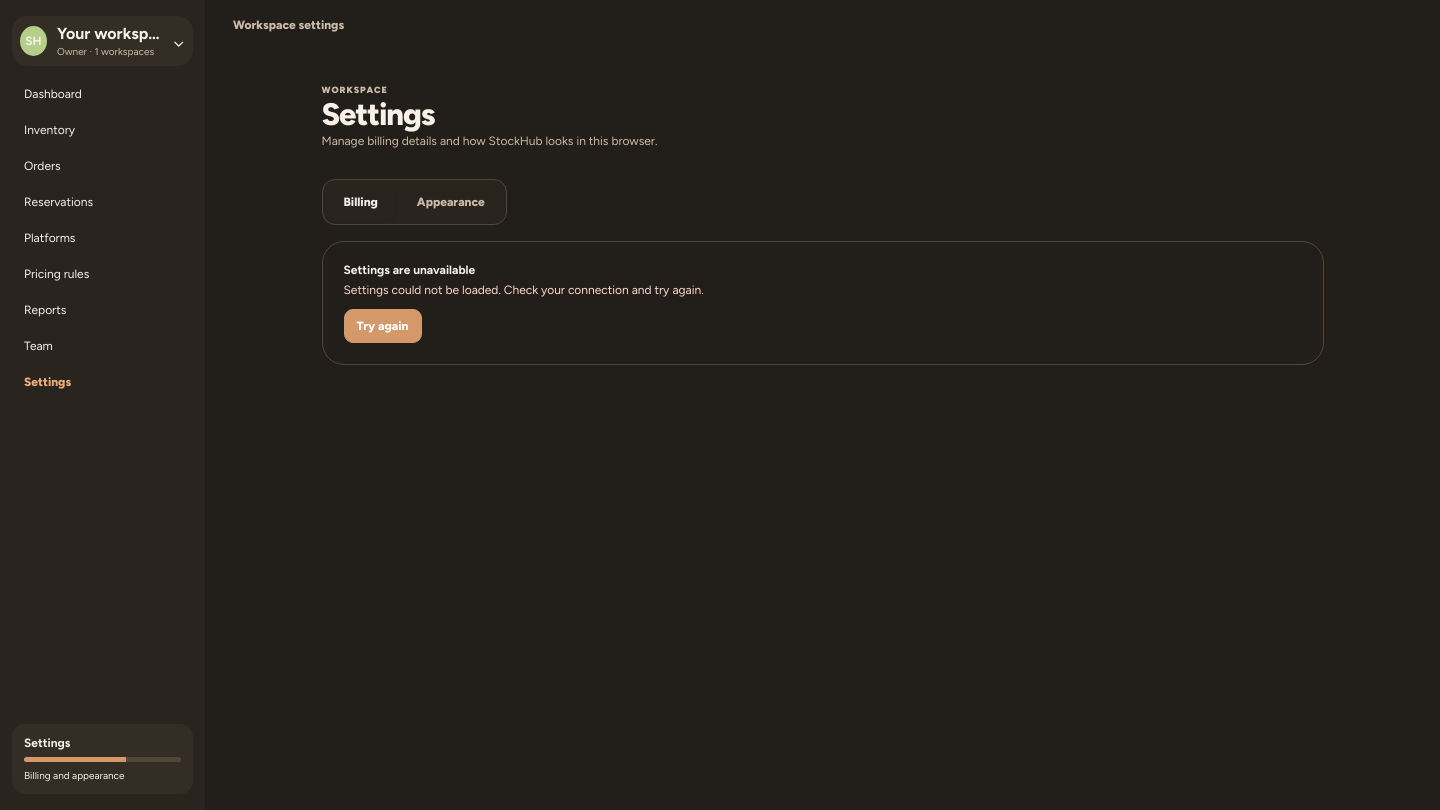
Test: Settings screen › shows a recoverable session error and retries successfully
Click the button "Try again": (382, 326) [344,309,422,343]
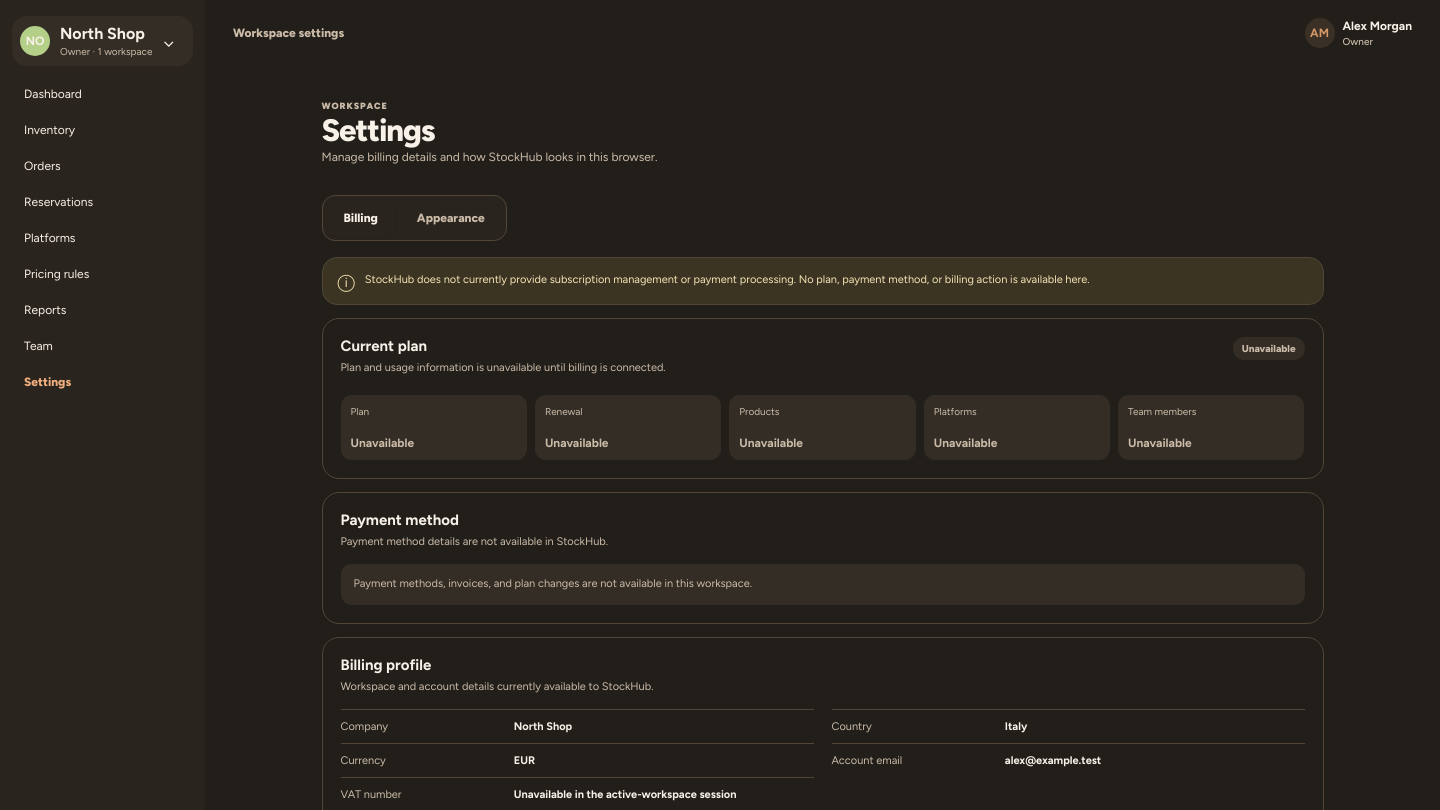
Expected: the text "North Shop" is shown, [60,24,152,43]
Expected: the text "Settings are unavailable" is gone
